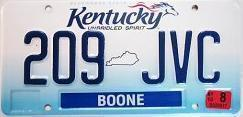placa de veiculo: (5, 1, 239, 114)
